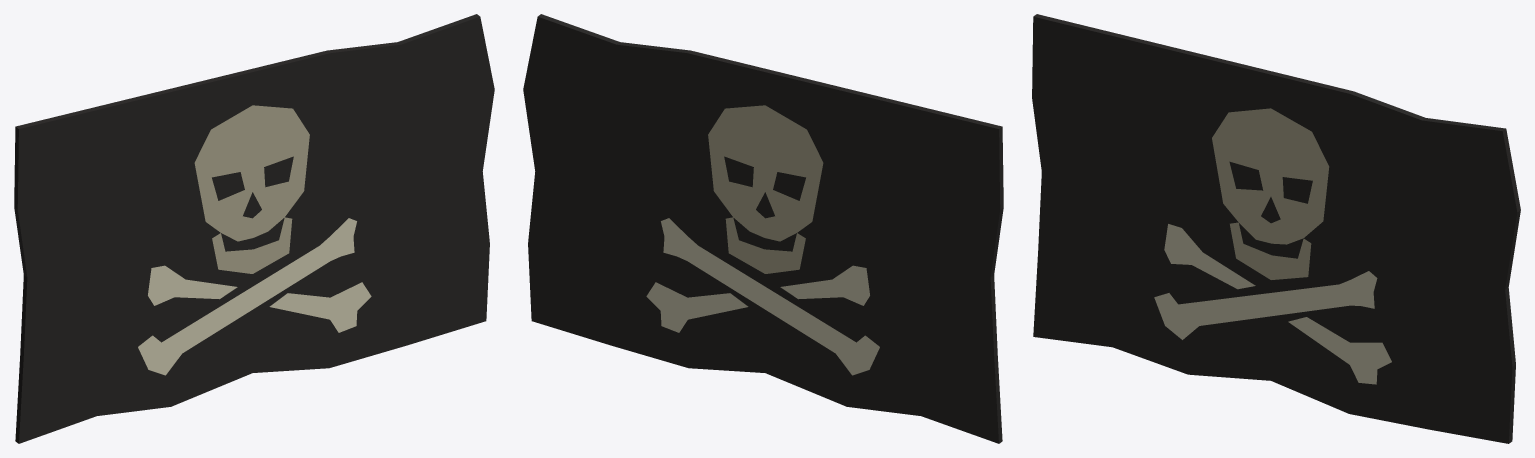
Rendered from Flag_2.fbx.
3 views of the same model, side by side, from view 1: azimuth 30°, elevation 25°; view 2: azimuth 150°, elevation 25°; view 3: azimuth 330°, elevation 25° (orthographic).
Parts seen in each view (by area): view 1: Flag_2; view 2: Flag_2; view 3: Flag_2.
Part boxes in pixels (box(x1,y1,x2,y2)): Flag_2: box(14, 14, 494, 443); Flag_2: box(523, 14, 1003, 443); Flag_2: box(1032, 14, 1520, 443).
Size of the model in its own units: 233 by 147 by 3.
